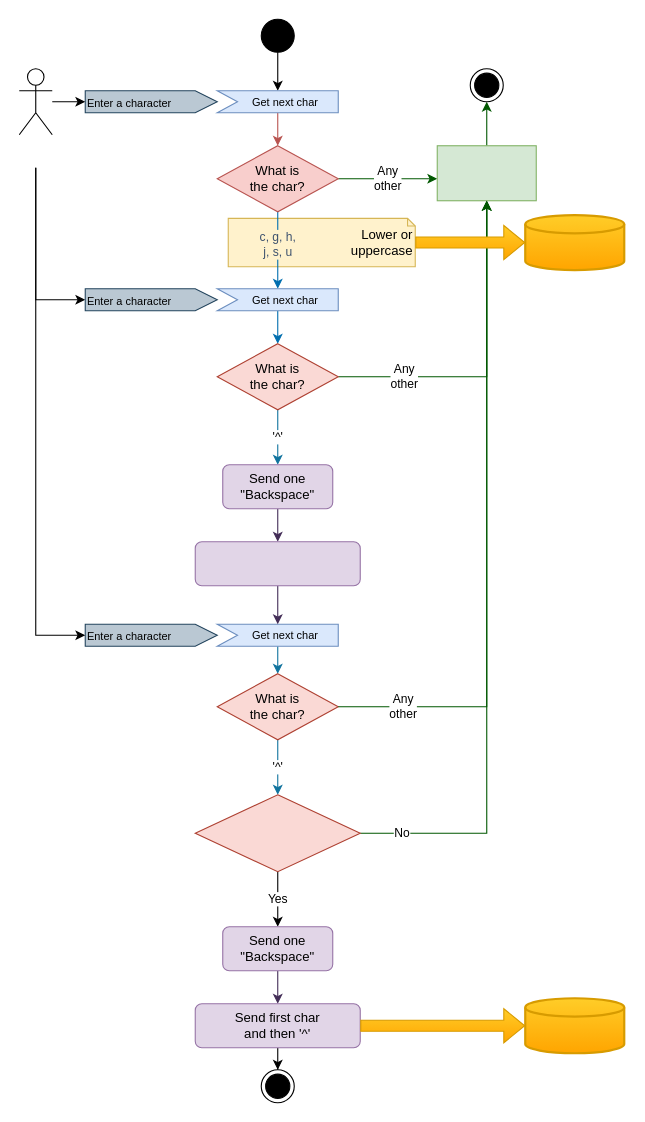
This 645x1122 diagram has some shape labels left out. Each missing label, with the centre of its shape:
"Delete first char" belongs at point 574,1025.
"Do not modify the messages" belongs at point 486,173.
"Does the second '^' cancel diactrics?" belongs at point 277,833.
"Save first char" belongs at point 574,242.
"Send corresponding char with diactrics" belongs at point 277,563.
"User" belongs at point 35,101.
